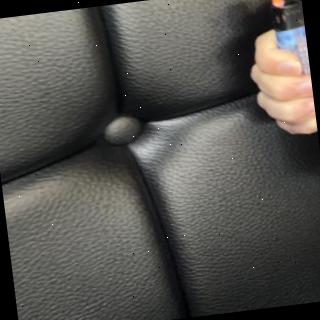fire: (265, 0, 285, 11)
